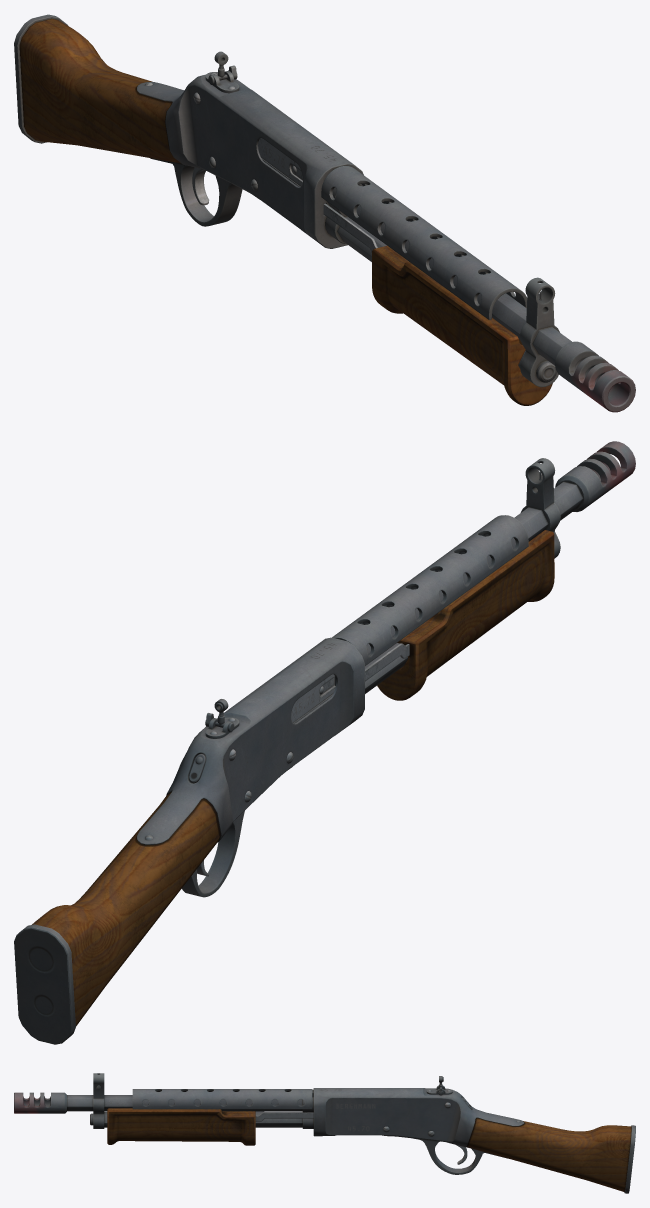
File: berghmannrifle.fbx
3 renders of one model, top to bottom at view 1: azimuth 30°, elevation 25°; view 2: azimuth 150°, elevation 25°; view 3: azimuth 270°, elevation 25°, orthographic. The views are drawn at different scales.
Visible parts, largest first — view 1: base, pump; view 2: base, pump; view 3: base, pump.
Boxes of the visible parts, box(x1,y1,x2,y2) form: base: box(14, 14, 635, 412); pump: box(258, 138, 552, 405); base: box(14, 441, 635, 1044); pump: box(291, 530, 554, 723); base: box(14, 1073, 635, 1193); pump: box(107, 1108, 313, 1145).
Bounding box in the file's own units: 4.88 × 18.92 × 90.72.
